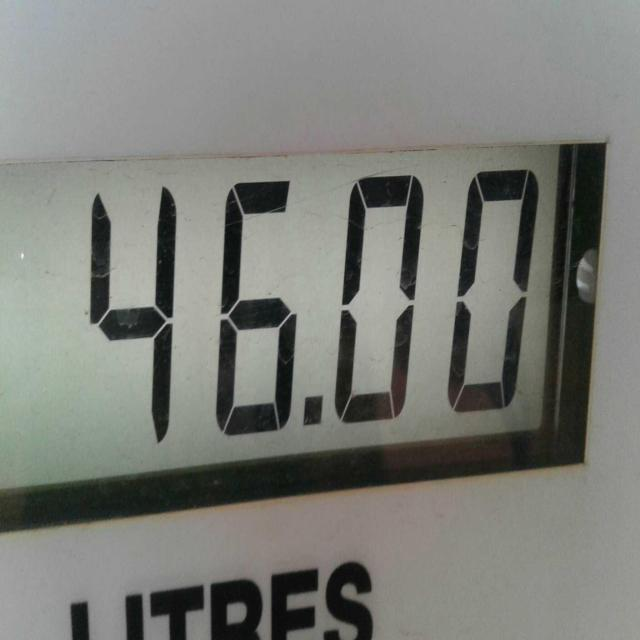.: (303, 391, 322, 428)
0: (331, 168, 429, 439), (444, 163, 543, 424)
4: (83, 174, 183, 455)
6: (212, 177, 300, 442)
